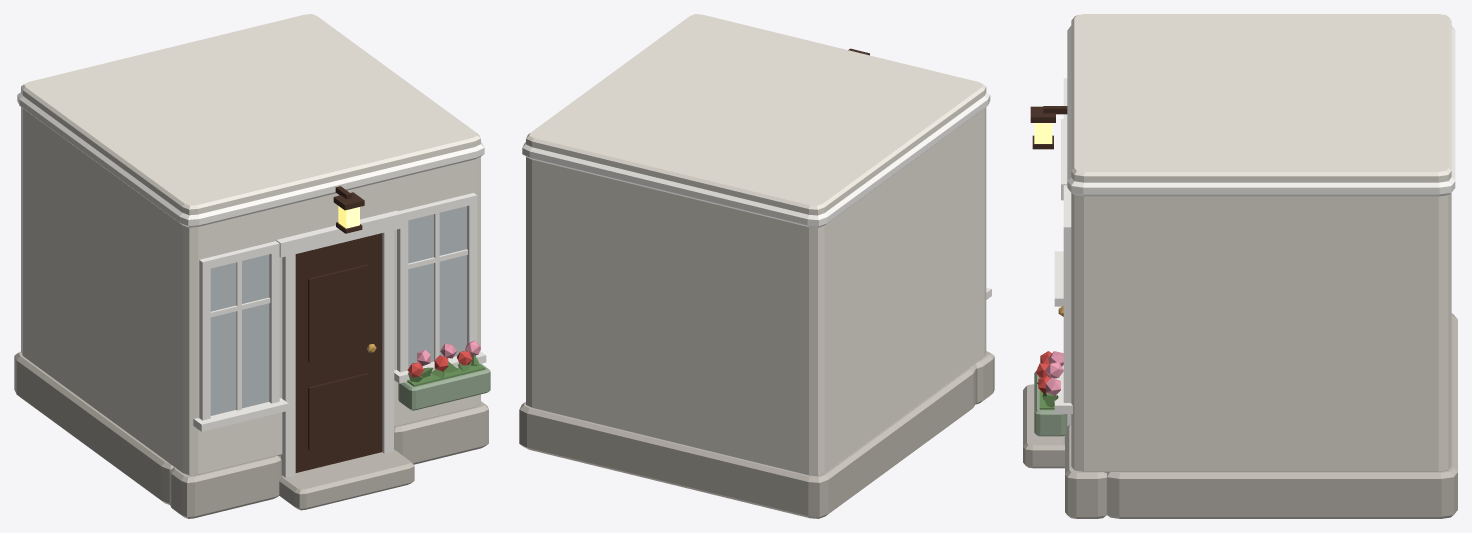
File: townhouse_ground_floor.glb
3 views of the same model, side by side, from view 1: azimuth 30°, elevation 25°; view 2: azimuth 150°, elevation 25°; view 3: azimuth 270°, elevation 25° (orthographic). The views are drawn at different scales.
Visible parts, largest first — view 1: walls, door_leaf, window_left_glass, window_right_glass, plinth_back, cornice_band, door_panel_upper, door_step, plinth_front_left, door_panel_lower, plinth_front_right, door_frame_left (+12 smaller); view 2: walls, plinth_back, cornice_band, plinth_front_left; view 3: walls, plinth_back, cornice_band, plinth_front_right, door_step, window_right_frame_right, flower_box, window_left_sill, door_lintel.
Boxes of the visible parts, <box> form: walls: <box>21,14,480,475</box>; door_leaf: <box>295,233,382,472</box>; window_left_glass: <box>210,254,269,415</box>; window_right_glass: <box>408,206,466,367</box>; plinth_back: <box>14,351,280,504</box>; cornice_band: <box>17,92,484,227</box>; door_panel_upper: <box>308,264,368,362</box>; door_step: <box>279,450,414,510</box>; plinth_front_left: <box>169,455,281,518</box>; door_panel_lower: <box>308,373,368,450</box>; plinth_front_right: <box>394,401,488,464</box>; door_frame_left: <box>281,254,295,477</box>; walls: <box>526,14,986,476</box>; plinth_back: <box>519,366,975,518</box>; cornice_band: <box>522,92,990,227</box>; plinth_front_left: <box>972,351,994,404</box>; walls: <box>1071,14,1451,472</box>; plinth_back: <box>1107,313,1457,518</box>; cornice_band: <box>1067,26,1455,196</box>; plinth_front_right: <box>1065,424,1106,518</box>; door_step: <box>1023,384,1064,468</box>; window_right_frame_right: <box>1063,223,1071,402</box>; flower_box: <box>1034,371,1067,436</box>; window_left_sill: <box>1054,251,1063,306</box>; door_lintel: <box>1061,119,1067,200</box>.
Size of the model in its own units: 3.1 by 3 by 3.43.
